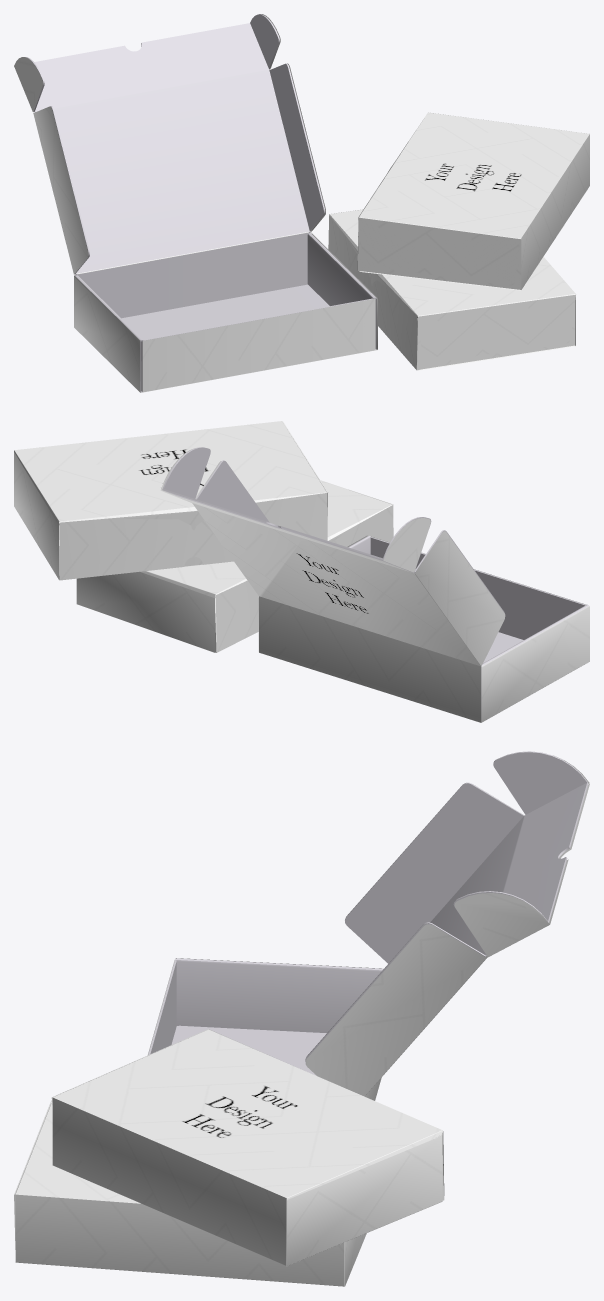
The model's file is Die Cut A-3.glb.
The picture shows the model from 3 angles, top to bottom: view 1: azimuth 30°, elevation 25°; view 2: azimuth 150°, elevation 25°; view 3: azimuth 270°, elevation 25°; orthographic projection. The views are drawn at different scales.
Visible parts, largest first — view 1: Box3.001, Box3-outer.002, Box3-outer, Box3-outer.001; view 2: Box3-outer, Box3-outer.002, Box3-outer.001, Box3.001; view 3: Box3-outer.002, Box3.001, Box3-outer.001, Box3-outer.
Boxes of the visible parts, bbox=[...] form: Box3.001: bbox=[25, 14, 376, 392]; Box3-outer.002: bbox=[357, 112, 589, 290]; Box3-outer: bbox=[14, 14, 377, 392]; Box3-outer.001: bbox=[328, 209, 575, 370]; Box3-outer: bbox=[160, 448, 589, 722]; Box3-outer.002: bbox=[14, 421, 327, 580]; Box3-outer.001: bbox=[76, 480, 393, 652]; Box3.001: bbox=[162, 447, 588, 722]; Box3-outer.002: bbox=[51, 1029, 444, 1265]; Box3.001: bbox=[148, 751, 588, 1075]; Box3-outer.001: bbox=[14, 1100, 366, 1286]; Box3-outer: bbox=[148, 755, 589, 1100].
Size of the model in its own units: 7.66 by 3.34 by 5.96.
3 materials, 2 textured.
